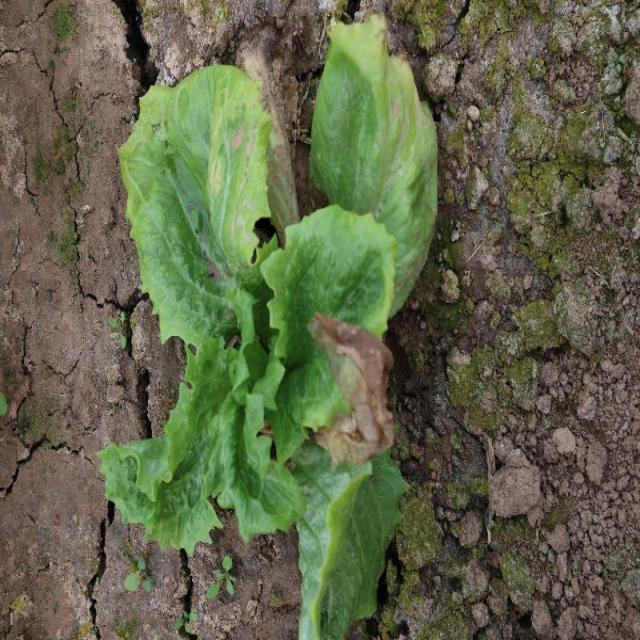crop: (98, 16, 438, 640)
